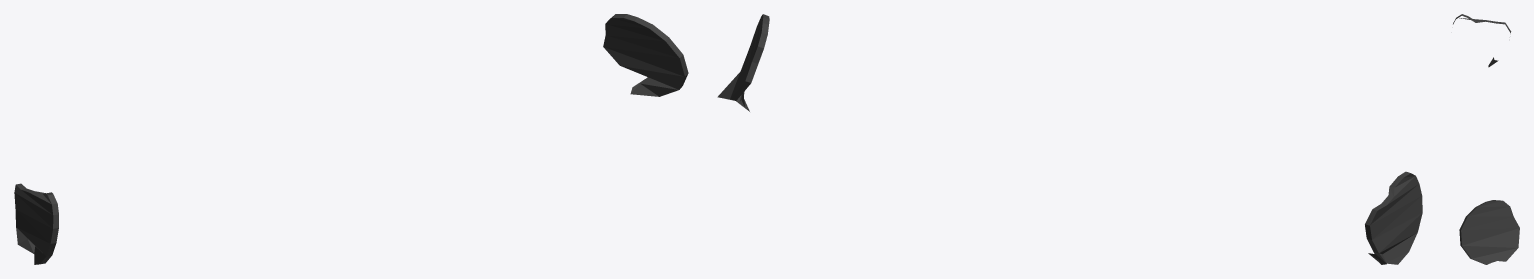
The model's file is c1_lateral_foramen.glb.
3 views of the same model, side by side, from view 1: azimuth 30°, elevation 25°; view 2: azimuth 150°, elevation 25°; view 3: azimuth 270°, elevation 25° (orthographic). The views are drawn at different scales.
Parts seen in each view (by area): view 1: c1_lateral_foramen; view 2: c1_lateral_foramen; view 3: c1_lateral_foramen.
Boxes of the visible parts, x1,y1,x2,y2 form: c1_lateral_foramen: (14,14,688,264); c1_lateral_foramen: (717,14,1422,264); c1_lateral_foramen: (1453,14,1519,264).
Bounding box in the file's own units: 26.02 × 3.68 × 3.59.
1 material, 1 textured.
